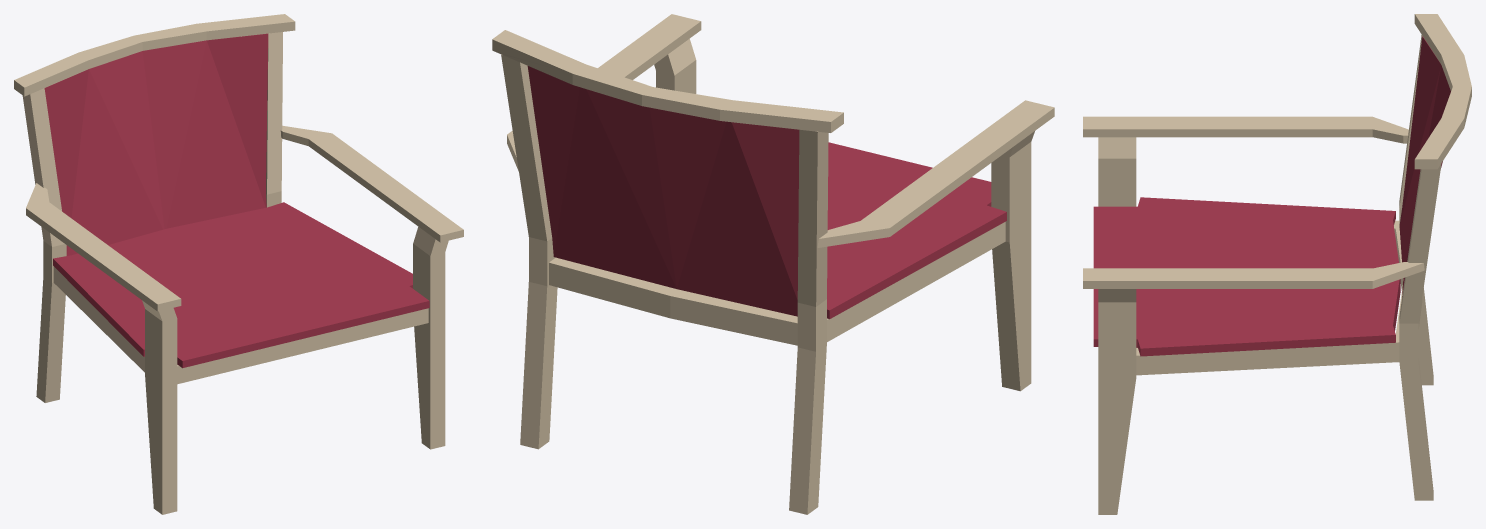
File: sh-contrib-chair-office-x.glb
3 renders of one model, left to right at view 1: azimuth 30°, elevation 25°; view 2: azimuth 150°, elevation 25°; view 3: azimuth 270°, elevation 25°, orthographic. The views are drawn at different scales.
Parts seen in each view (by area): view 1: 5_5, 1_1; view 2: 1_1, 5_5; view 3: 1_1, 5_5.
Part boxes in pixels (<box>): 5_5: <box>44,33,429,368</box>; 1_1: <box>14,14,463,514</box>; 1_1: <box>492,14,1054,514</box>; 5_5: <box>527,66,1006,319</box>; 1_1: <box>1083,14,1471,514</box>; 5_5: <box>1093,36,1450,356</box>.
Bounding box in the file's own units: 1 × 1 × 1.
